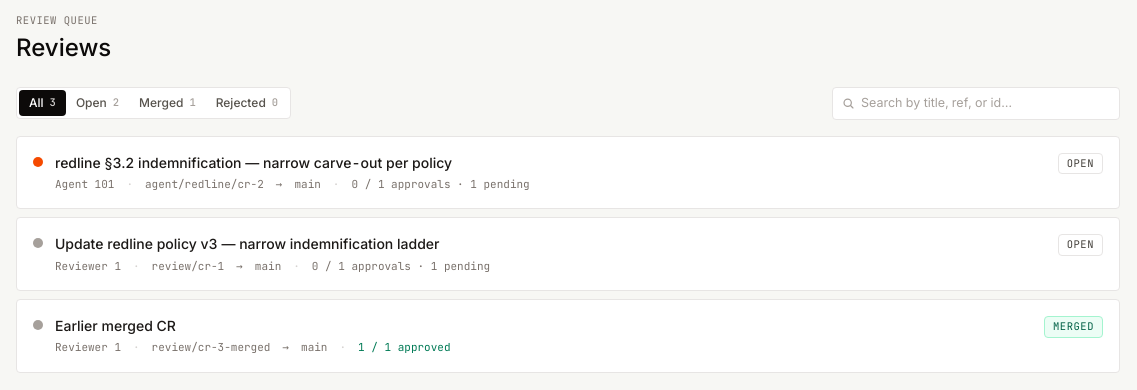
Test: ReviewsScreen — filter chips › clicking 'rejected' shows the no-matches state (none in the fixture)
Step 1. Click the radio button labelled "rejected 0" → (247, 103), box x1=206 y1=90 x2=288 y2=116
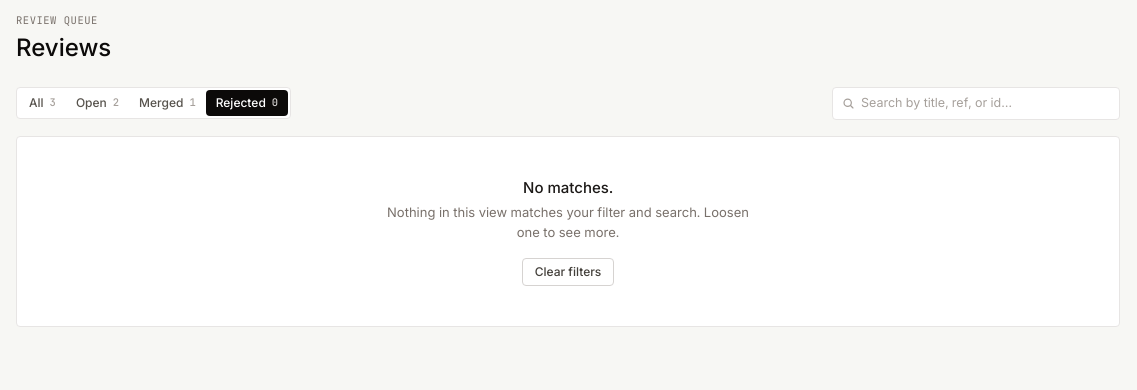
Result: the heading "No matches." is shown at x1=523 y1=178 x2=613 y2=196
